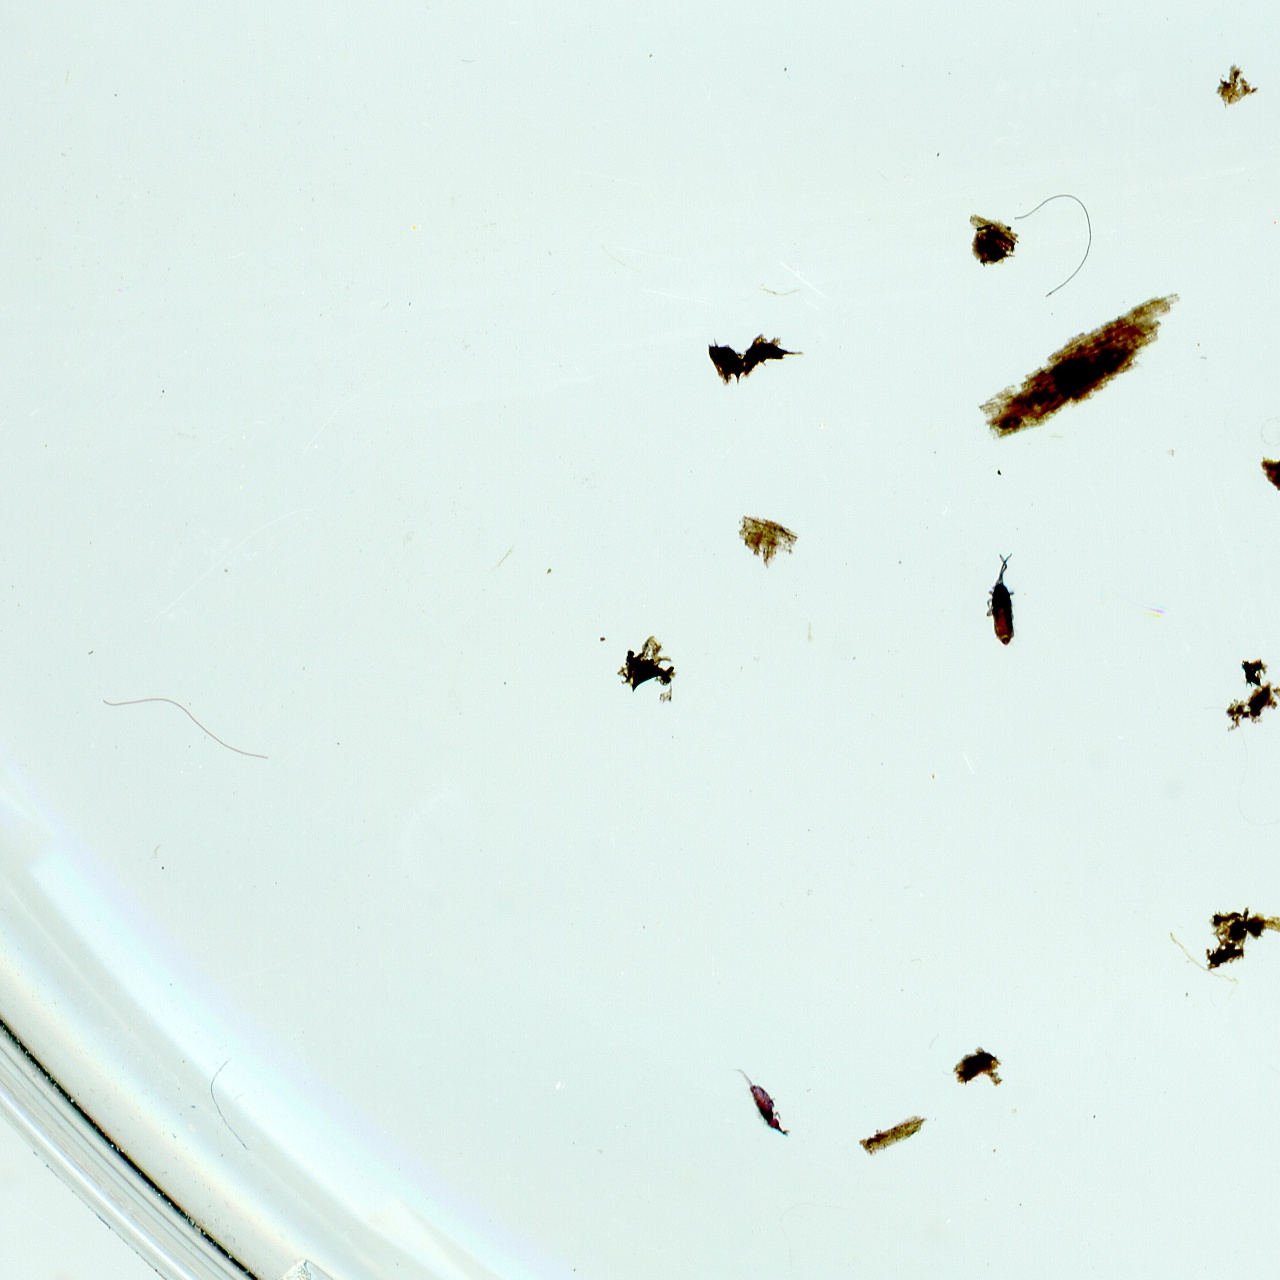arthropod: (728, 1050, 800, 1152), (983, 550, 1020, 655)
